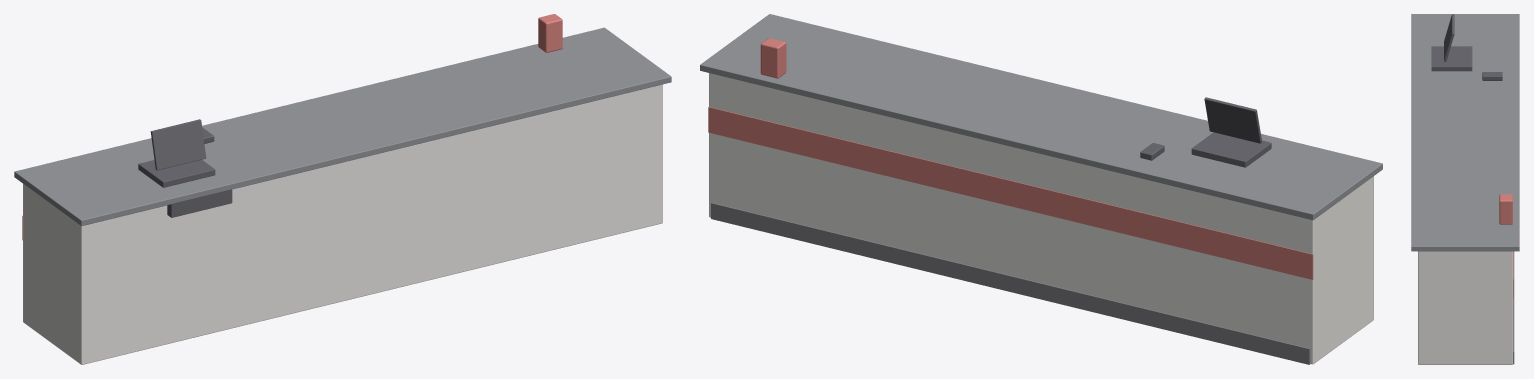
File: local.mostrador.fbx
The picture shows the model from 3 angles, left to right: view 1: azimuth 30°, elevation 25°; view 2: azimuth 150°, elevation 25°; view 3: azimuth 270°, elevation 25°; orthographic projection. The views are drawn at different scales.
Parts seen in each view (by area): view 1: Meson, Cubierta, Pantalla de la caja, Base de la caja, Gaveta, Dispensador de numeros; view 2: Meson, Cubierta, Franja, Zocalo, Pantalla de la caja, Base de la caja, Dispensador de numeros; view 3: Cubierta, Meson, Base de la caja, Dispensador de numeros, Pantalla de la caja, Zocalo, Lector de tarjetas.
Boxes of the visible parts, box(x1,y1,x2,y2) form: Meson: box(23, 84, 662, 364); Cubierta: box(14, 27, 671, 226); Pantalla de la caja: box(150, 119, 206, 170); Base de la caja: box(138, 159, 215, 187); Gaveta: box(167, 189, 232, 217); Dispensador de numeros: box(538, 14, 562, 52); Meson: box(709, 73, 1373, 364); Cubierta: box(700, 14, 1382, 220); Franja: box(708, 107, 1313, 279); Zocalo: box(711, 202, 1310, 364); Pantalla de la caja: box(1204, 97, 1262, 143); Base de la caja: box(1191, 132, 1271, 167); Dispensador de numeros: box(760, 38, 786, 78); Cubierta: box(1411, 14, 1519, 251); Meson: box(1418, 251, 1512, 364); Base de la caja: box(1431, 46, 1472, 71); Dispensador de numeros: box(1499, 194, 1512, 224); Pantalla de la caja: box(1444, 14, 1454, 61); Zocalo: box(1513, 251, 1514, 364); Lector de tarjetas: box(1482, 72, 1502, 80).
Bounding box in the file's own units: 4.06 × 1.29 × 0.8.
